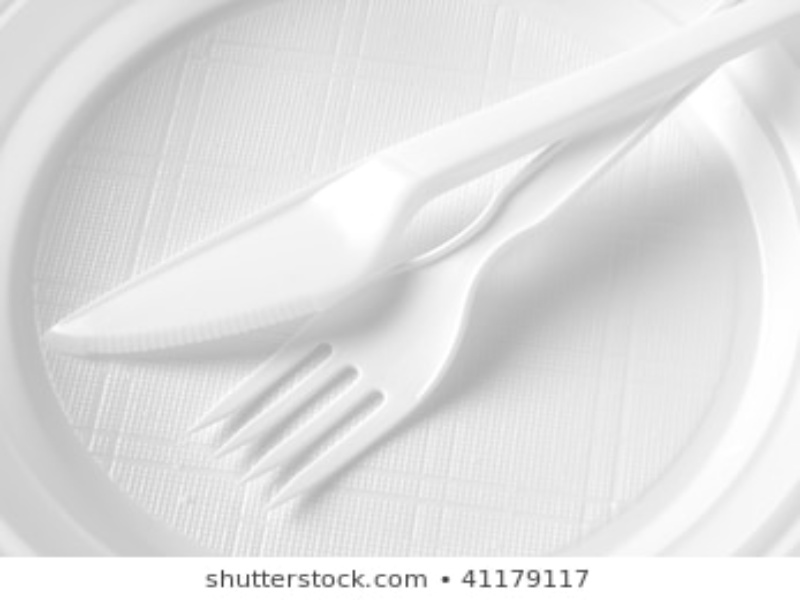plastic-silverware: (50, 1, 793, 363), (192, 41, 748, 509)
